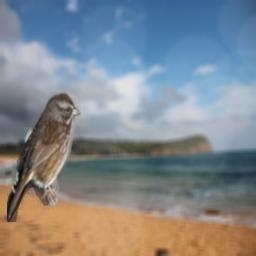Sparrow: (7, 92, 81, 222)
